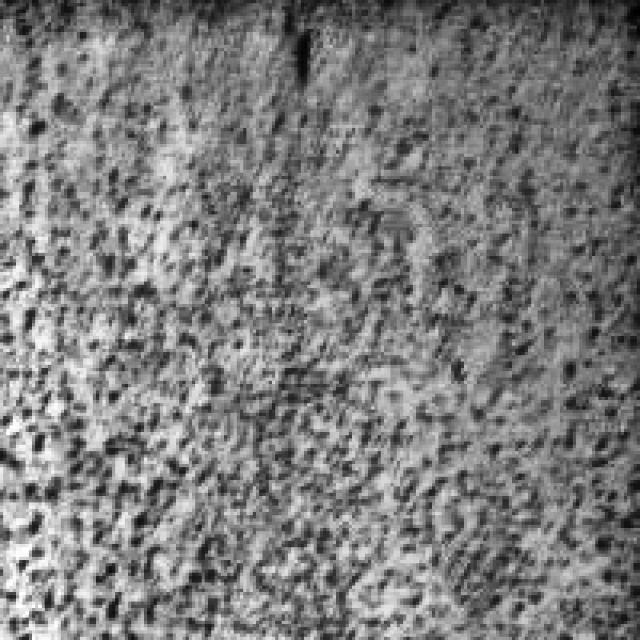Rolled_in_Scale: (0, 3, 221, 630), (486, 6, 637, 564)
